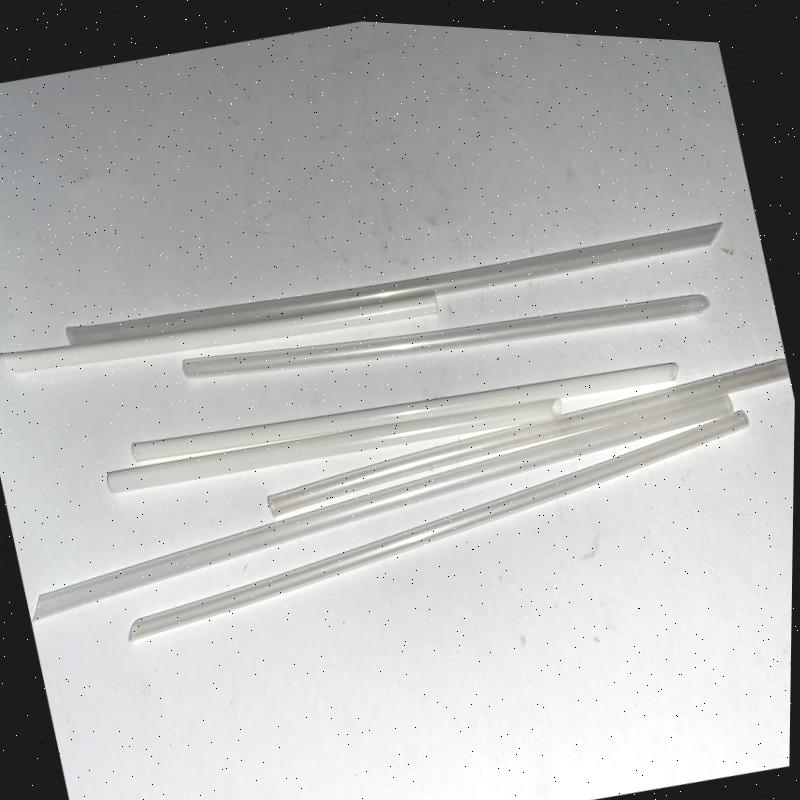plastic straw: (33, 392, 733, 620), (128, 408, 749, 639), (267, 357, 789, 515), (66, 221, 722, 344), (132, 362, 678, 460), (183, 294, 710, 377), (107, 396, 561, 491), (0, 292, 438, 370)
